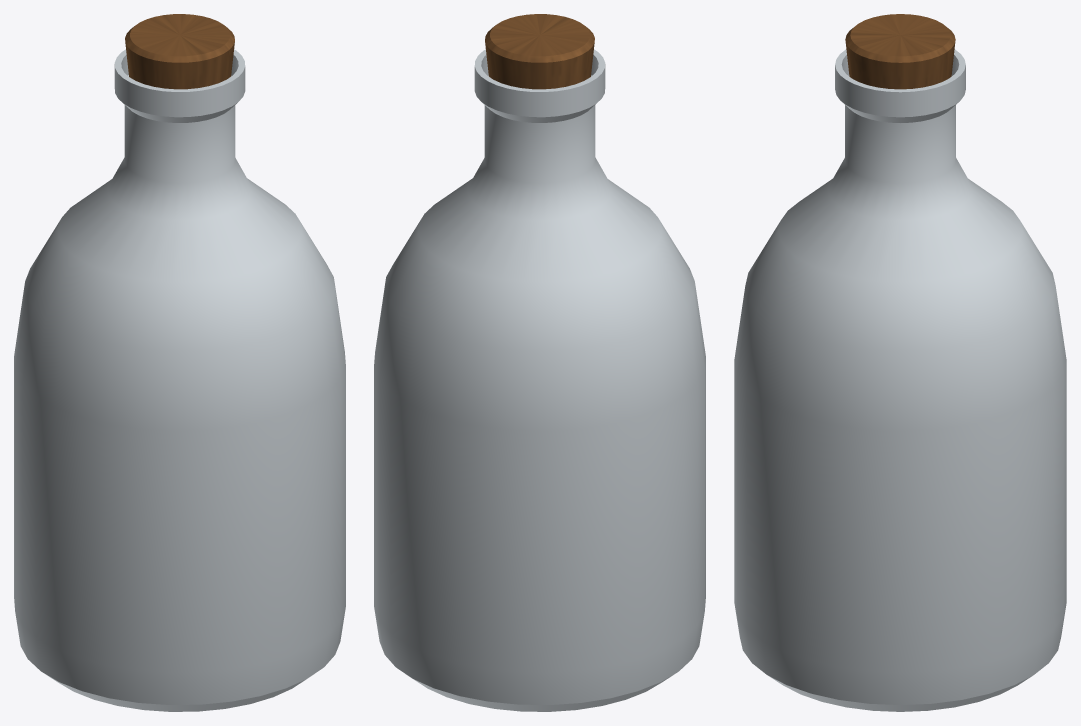
File: potion_bottle.glb
3 renders of one model, left to right at view 1: azimuth 30°, elevation 25°; view 2: azimuth 150°, elevation 25°; view 3: azimuth 270°, elevation 25°, orthographic.
Parts seen in each view (by area): view 1: potion_bottle_glass, potion_bottle_cork; view 2: potion_bottle_glass, potion_bottle_cork; view 3: potion_bottle_glass, potion_bottle_cork.
Boxes of the visible parts, box(x1,y1,x2,y2) form: potion_bottle_glass: box(14, 49, 345, 711); potion_bottle_cork: box(125, 14, 234, 89); potion_bottle_glass: box(374, 49, 705, 711); potion_bottle_cork: box(485, 14, 594, 89); potion_bottle_glass: box(734, 49, 1066, 711); potion_bottle_cork: box(845, 14, 955, 89).
Bounding box in the file's own units: 0.036 × 0.0737 × 0.036.
2 materials, 1 textured.
